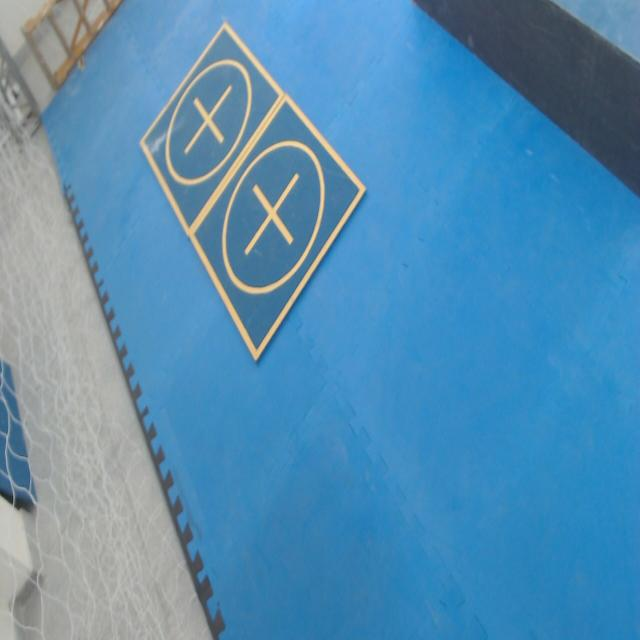base_pouso: (189, 90, 368, 366), (138, 21, 286, 241)
